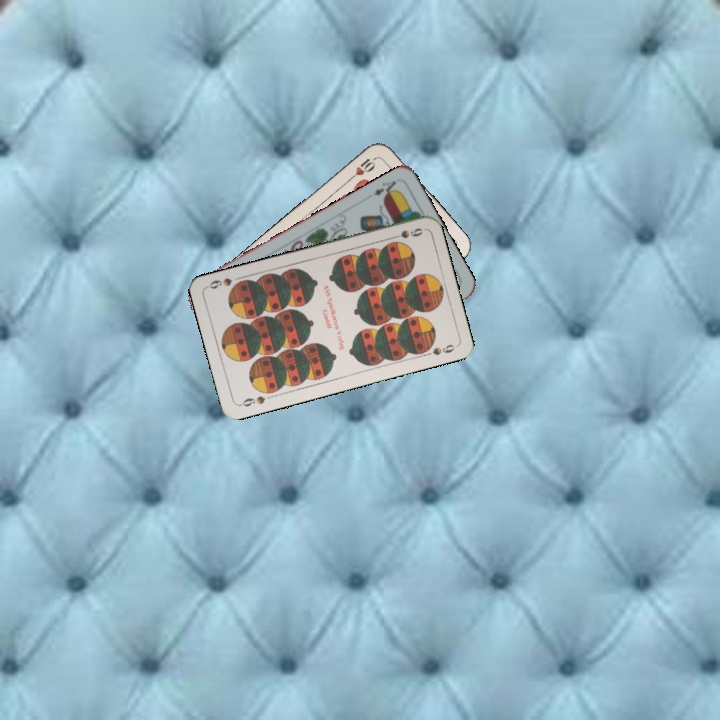EA: (369, 176, 400, 201)
H10: (345, 153, 380, 183)
S9: (386, 224, 425, 242), (235, 392, 267, 409)
